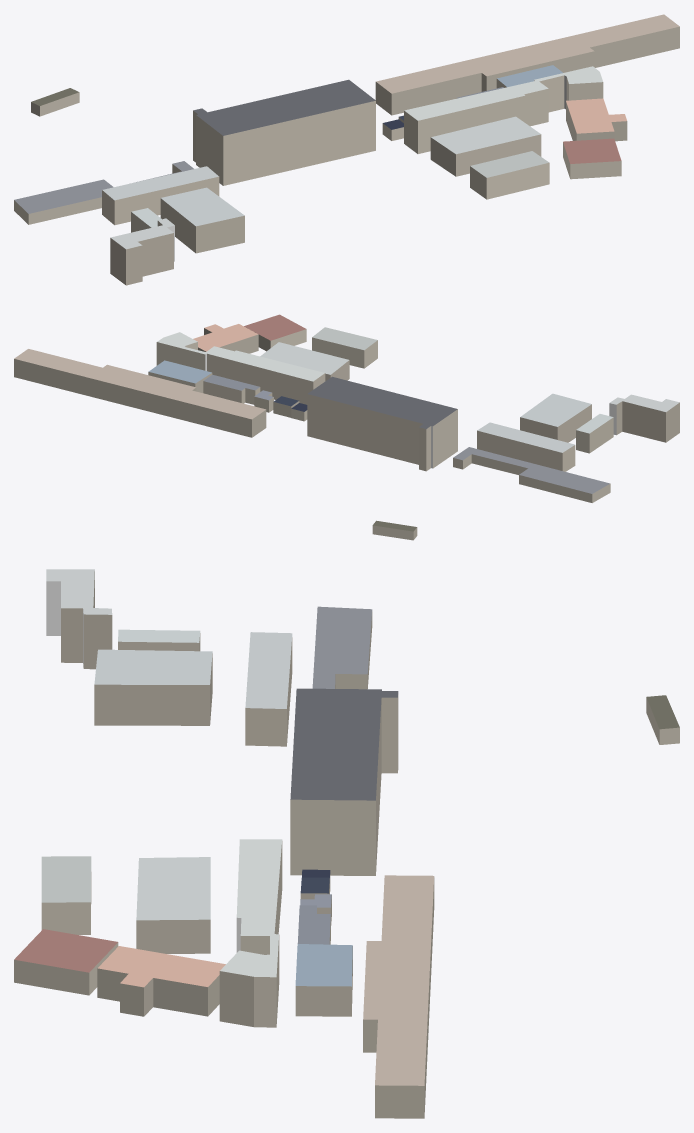
3 renders of one model, top to bottom at view 1: azimuth 30°, elevation 25°; view 2: azimuth 150°, elevation 25°; view 3: azimuth 270°, elevation 25°, orthographic. The views are drawn at different scales.
Visible parts, largest first — view 1: tuile; view 2: tuile; view 3: tuile.
Boxes of the visible parts, <box> form: tuile: <box>14,14,679,285</box>; tuile: <box>14,314,679,540</box>; tuile: <box>14,569,679,1118</box>.
Bounding box in the file's own units: 228 × 16.29 × 130.
